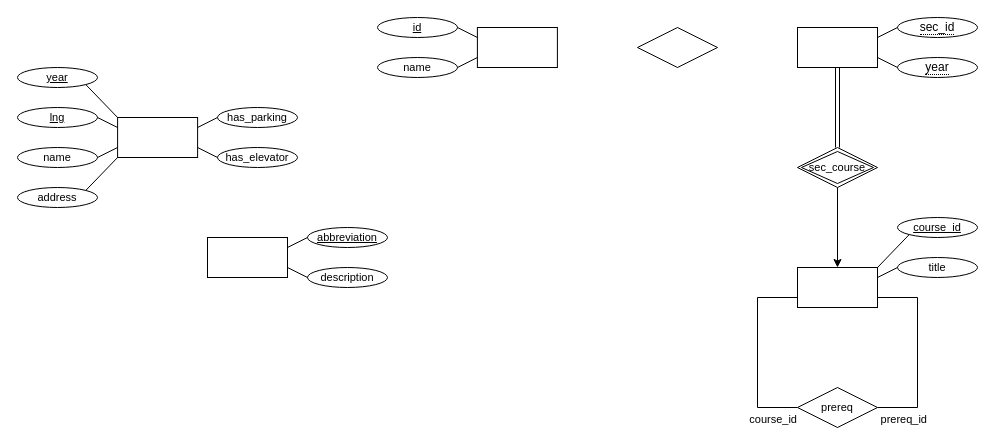
Image size: 995x445. Some labels were removed from this diagram. The centre of each missing label's shape, as x and y in pixels:
"Classes" goes at (x=157, y=137).
"Courses" goes at (x=837, y=287).
"Promotions" goes at (x=247, y=257).
"Sections" goes at (x=837, y=47).
"Students" goes at (x=516, y=47).
"take" goes at (x=677, y=47).
